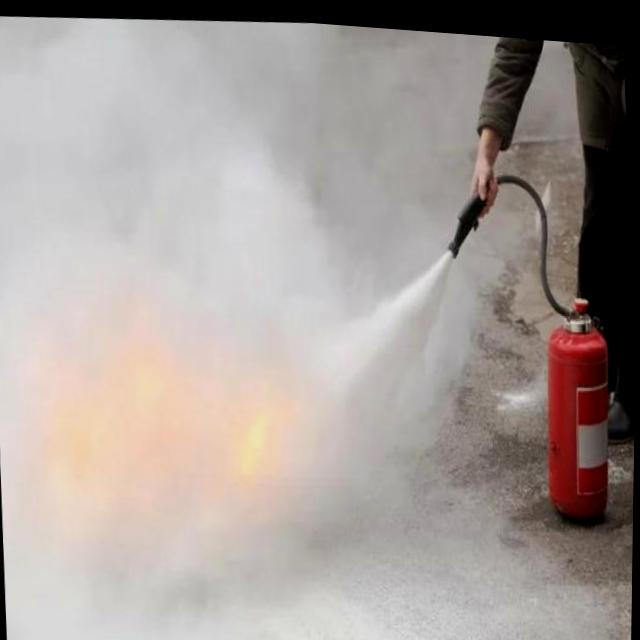FireExtinguisher: (436, 147, 624, 531)
